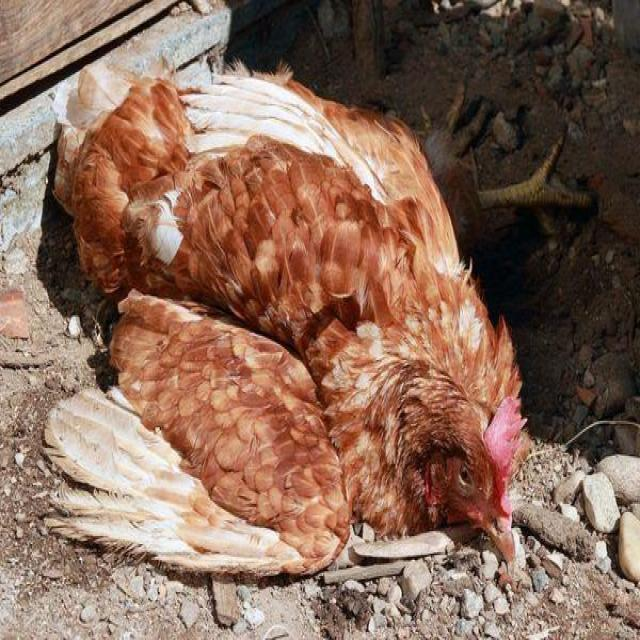Unhealthy: (27, 44, 595, 582)
